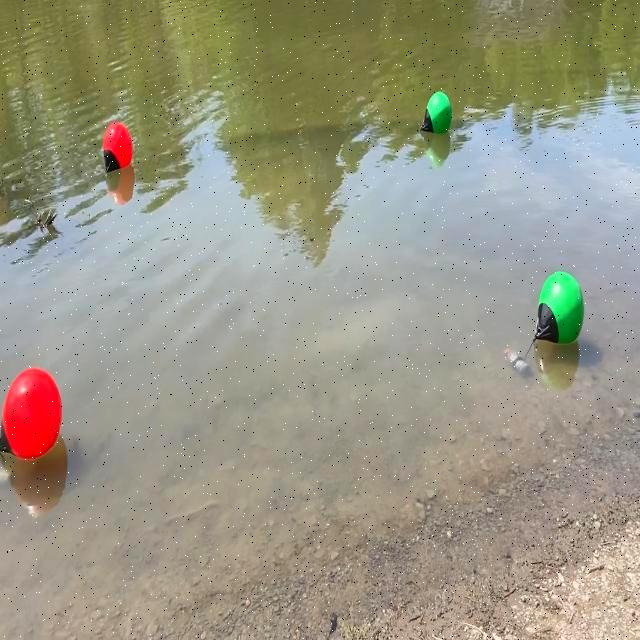buoy: (0, 364, 66, 464), (531, 270, 587, 347), (101, 118, 135, 176), (418, 88, 454, 138)
